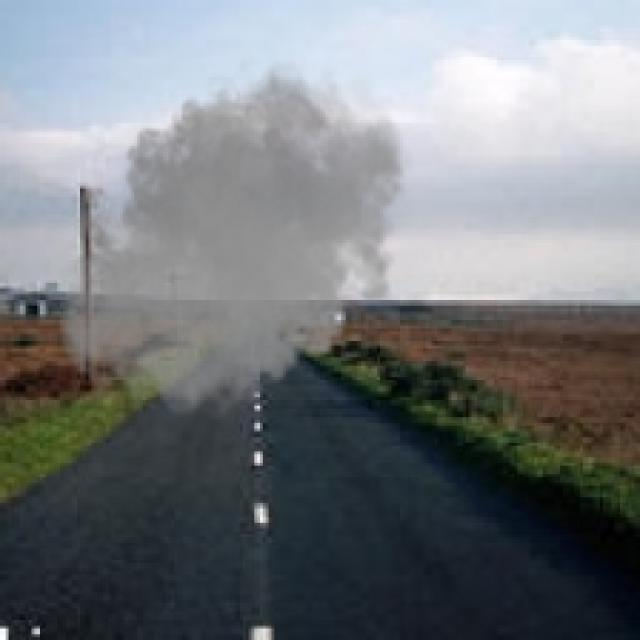smoke: (54, 48, 417, 426)
